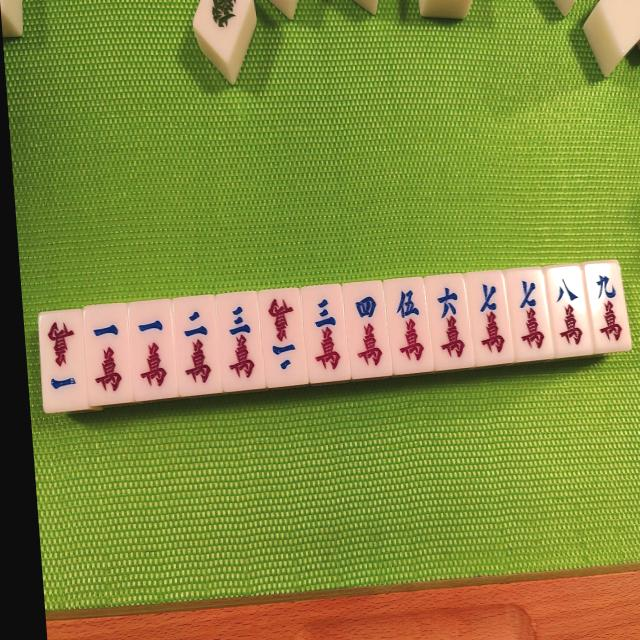m1: (39, 317, 82, 399), (86, 320, 127, 397), (134, 310, 171, 392)
m2: (175, 305, 218, 388), (261, 295, 302, 379)
m3: (302, 290, 346, 376), (218, 301, 260, 384)
m4: (344, 290, 389, 370)
m5: (386, 283, 431, 366)
m6: (428, 280, 470, 360)
m7: (508, 276, 547, 356), (469, 279, 508, 358)
m8: (547, 272, 589, 354)
m9: (588, 268, 625, 340)
